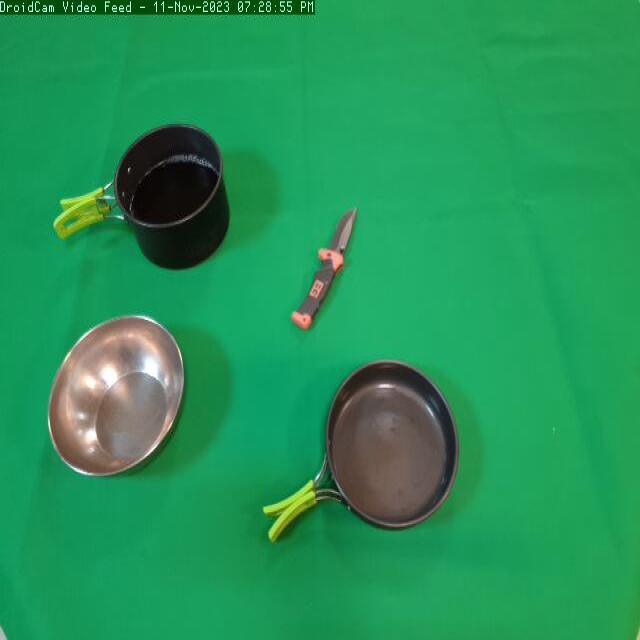bowl: (36, 307, 192, 484)
fullpot: (48, 121, 235, 288)
knife: (290, 198, 366, 338)
pan: (259, 354, 474, 561)
